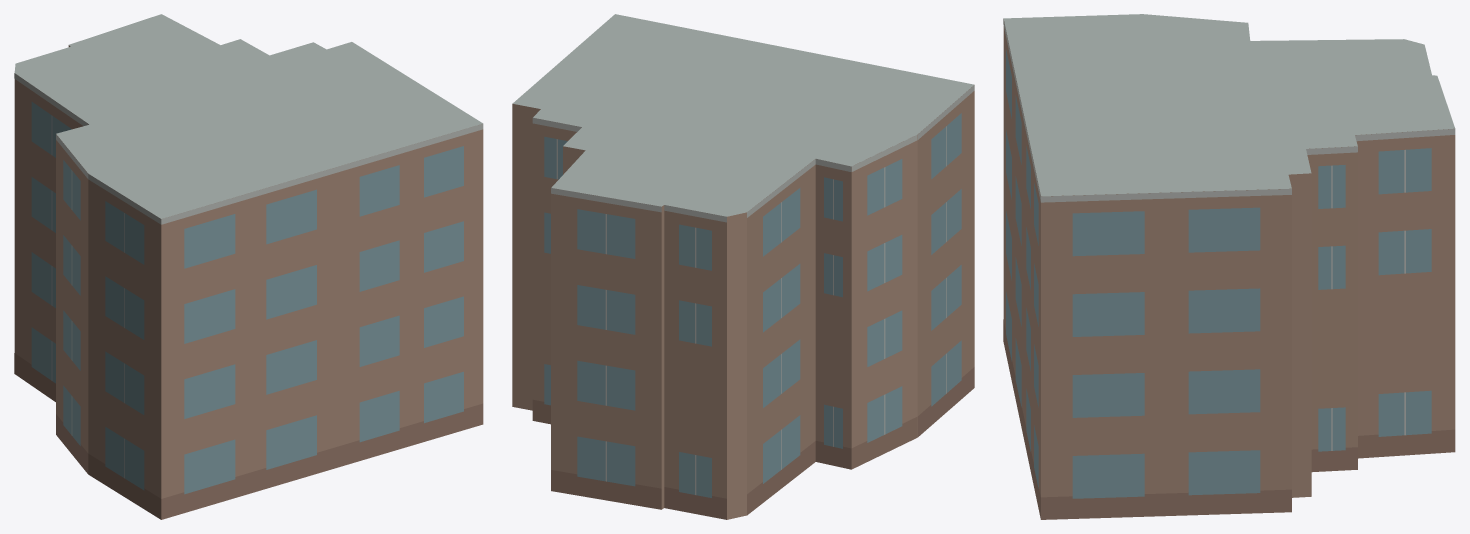
File: survey-upis-32660558.glb
3 renders of one model, left to right at view 1: azimuth 30°, elevation 25°; view 2: azimuth 150°, elevation 25°; view 3: azimuth 270°, elevation 25°, orthographic. The views are drawn at different scales.
Parts seen in each view (by area): view 1: survey-upis-32660558.tmp; view 2: survey-upis-32660558.tmp; view 3: survey-upis-32660558.tmp.
Boxes of the visible parts, <box> form: survey-upis-32660558.tmp: <box>14,14,483,519</box>; survey-upis-32660558.tmp: <box>512,14,974,519</box>; survey-upis-32660558.tmp: <box>1003,14,1455,519</box>.
Bounding box in the file's own units: 15.49 × 12.8 × 16.21.
